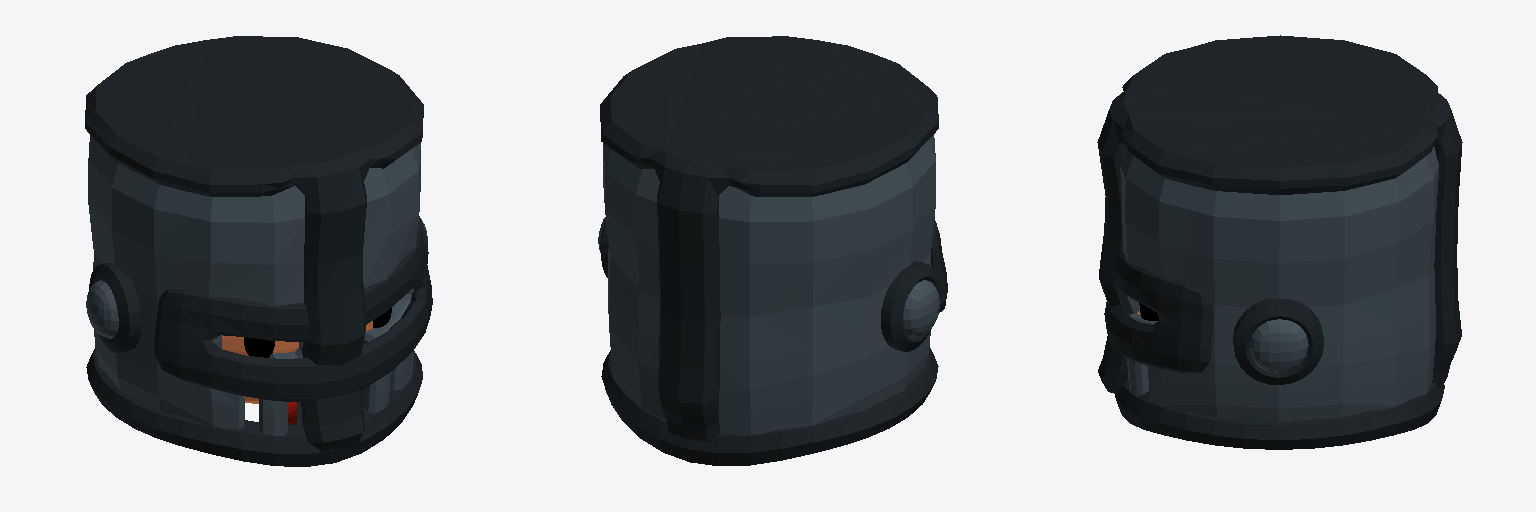
Rendered from Knight4_Head.obj.
3 views of the same model, side by side, from view 1: azimuth 30°, elevation 25°; view 2: azimuth 150°, elevation 25°; view 3: azimuth 270°, elevation 25° (orthographic).
Visible parts, largest first — view 1: Knight4_Head; view 2: Knight4_Head; view 3: Knight4_Head.
Boxes of the visible parts, x1=… form: Knight4_Head: x1=85, y1=36, x2=432, y2=466; Knight4_Head: x1=598, y1=36, x2=947, y2=465; Knight4_Head: x1=1097, y1=35, x2=1462, y2=449.
Size of the model in its own units: 1.89 by 1.7 by 1.82.